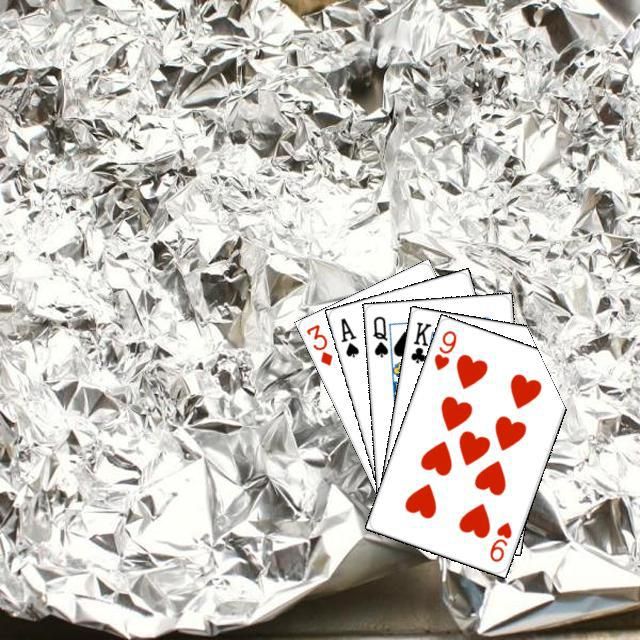3d: (301, 319, 334, 367)
9h: (429, 325, 458, 372), (485, 517, 513, 564)
As: (336, 313, 361, 359)
Kc: (406, 317, 436, 371)
Qs: (368, 311, 389, 359)
